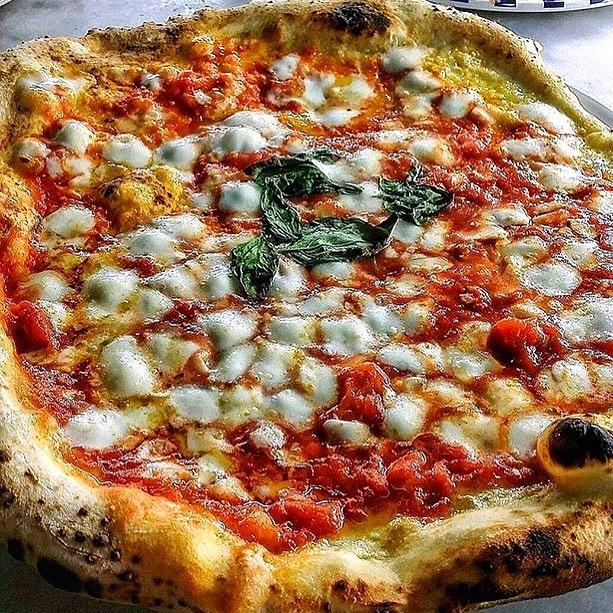Basil: (289, 218, 395, 270), (247, 151, 350, 200), (375, 169, 456, 218), (236, 237, 283, 304), (258, 189, 301, 238)
Cheese: (396, 361, 484, 444), (286, 289, 389, 356), (136, 233, 223, 301), (258, 340, 321, 421), (509, 219, 572, 293), (111, 123, 203, 169), (379, 47, 449, 106), (298, 71, 366, 120), (326, 155, 385, 209), (65, 405, 135, 450), (491, 317, 553, 367), (211, 310, 252, 378), (100, 345, 147, 399), (214, 107, 274, 148), (24, 270, 67, 326), (561, 298, 613, 335), (49, 203, 100, 240), (312, 257, 365, 289), (378, 345, 435, 373), (267, 258, 304, 299), (509, 410, 548, 447), (527, 100, 573, 131), (215, 180, 261, 210), (51, 151, 93, 183), (337, 183, 385, 211), (419, 139, 464, 168), (540, 160, 574, 192), (390, 217, 426, 244), (485, 207, 526, 230), (58, 120, 86, 150), (17, 138, 42, 170), (445, 93, 480, 115), (507, 140, 540, 158)
Pizza: (0, 14, 613, 605)
